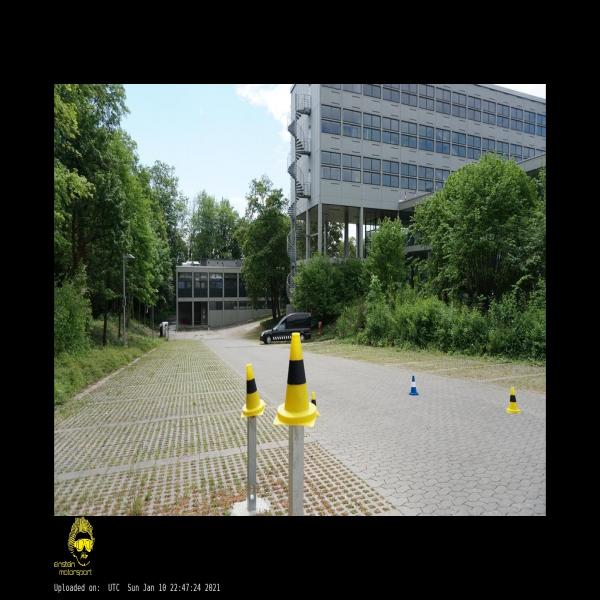blue_cone: (409, 375, 419, 396)
yellow_cone: (273, 332, 318, 426), (241, 364, 266, 418), (506, 387, 520, 413), (311, 391, 320, 415)
